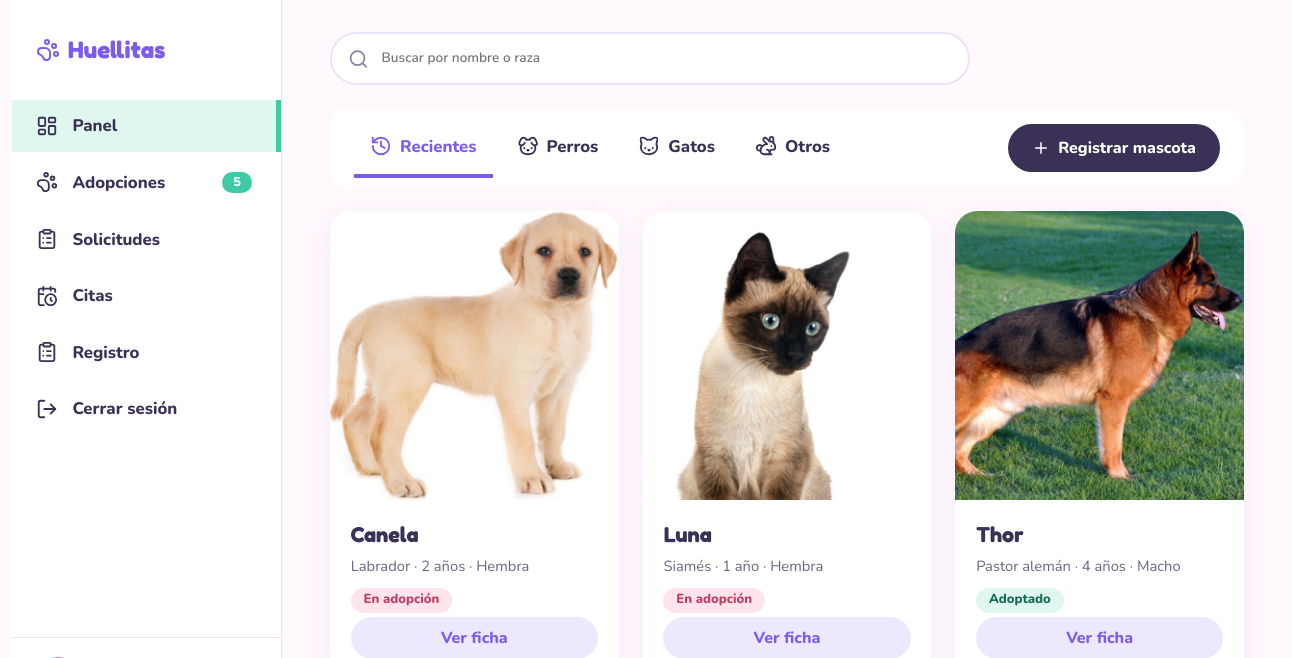
it: Catálogo de adopciones › el buscador filtra el catálogo
Click the button "Adopciones 5" at (146, 182), box left=12, top=157, right=281, bottom=208
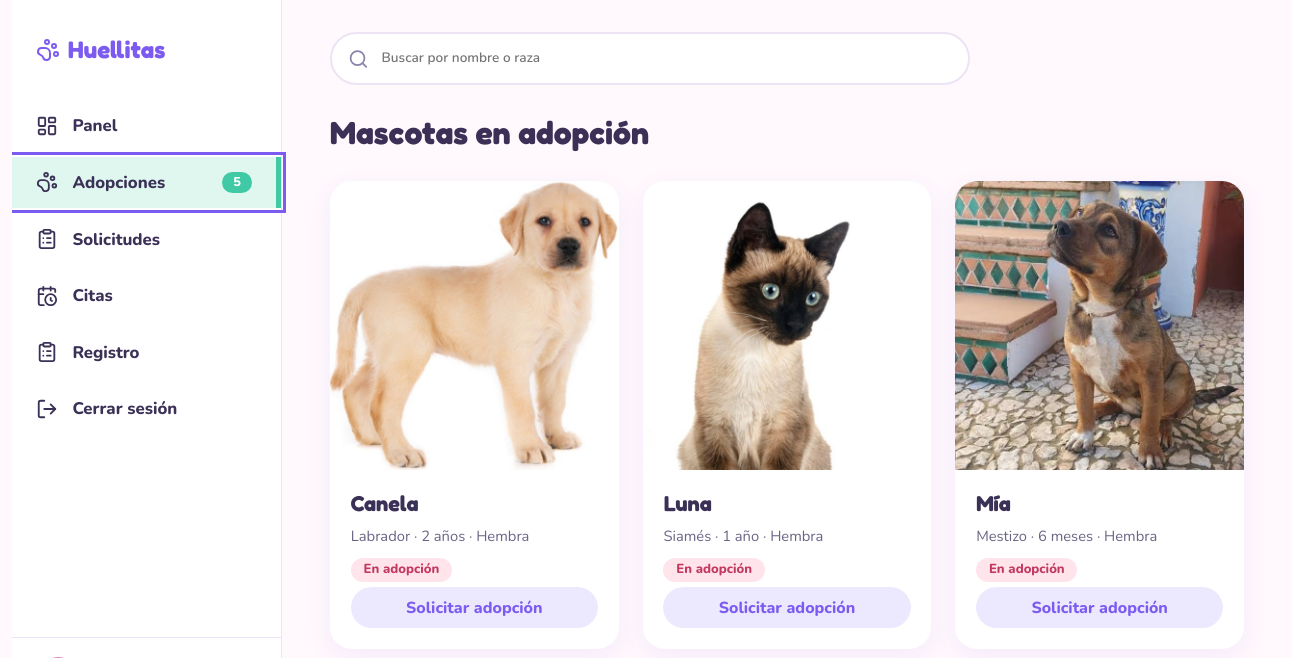
Type "luna" into the field labelled "Buscar" at (667, 59), box left=382, top=39, right=952, bottom=78
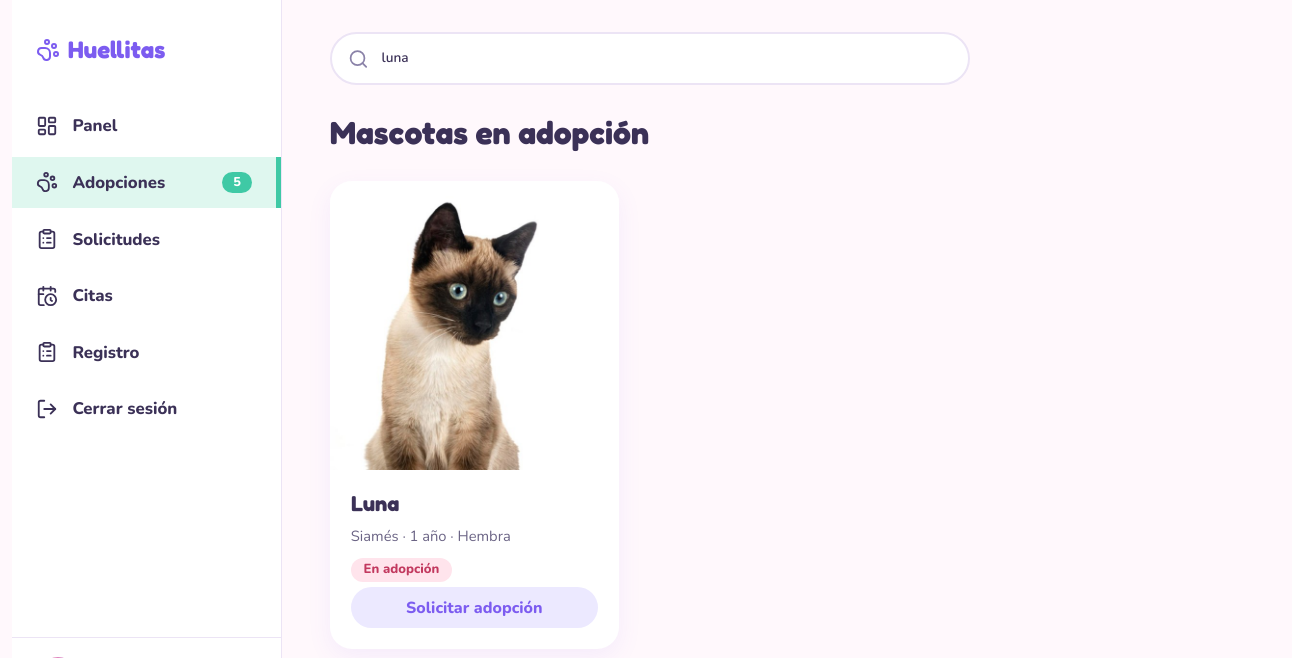
Expected: the heading "Luna" is shown, left=351, top=490, right=399, bottom=516
Expected: the heading "Canela" is gone
